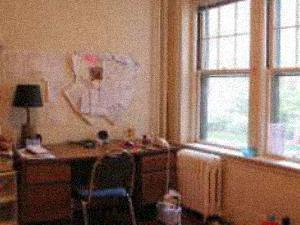Otro Obstaculo: (179, 151, 225, 225), (154, 189, 186, 225)
